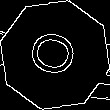O_E: (25, 27, 85, 83)
